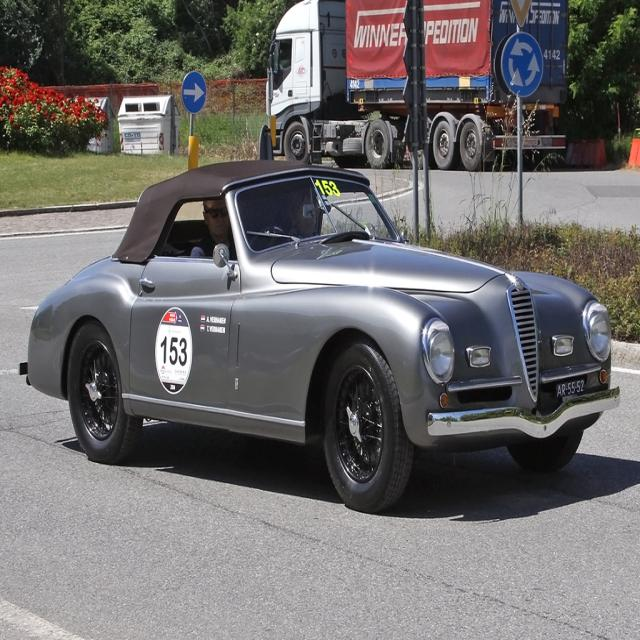car: (19, 157, 620, 516)
